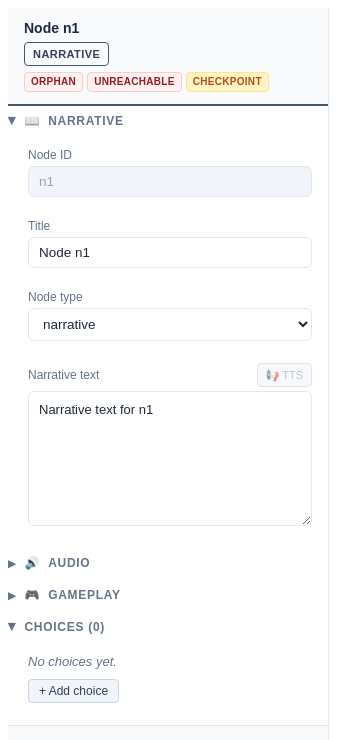
Scenario: CompanionPanel — gameplay section › shows checkpoint checked when node has checkpoint=true after opening section
Click the button "▶ 🎮 Gameplay".
click(84, 595)  # box [8,580,328,610]
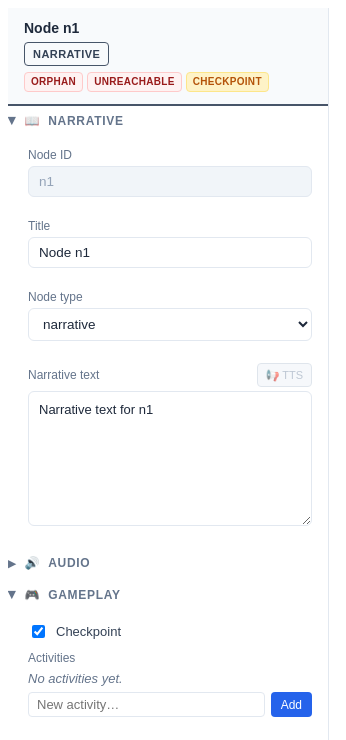
Now the checkbox is checked, box [32,625,45,638]
